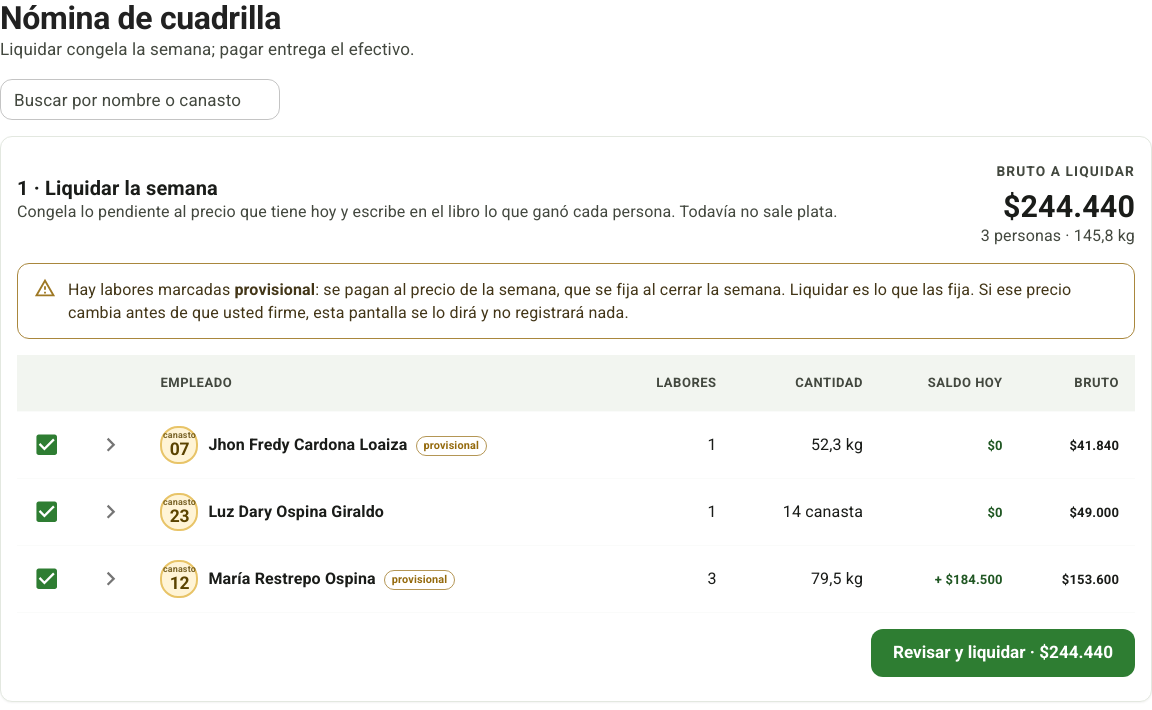
it: work that lands during the check › announces it, and the notice can be dismissed
The image size is (1152, 710).
Check: the heading "1 · Liquidar la semana" is shown, box [17, 176, 218, 200]
Click the button "Revisar y liquidar · $244.440" at (1003, 653), box [871, 629, 1135, 677]
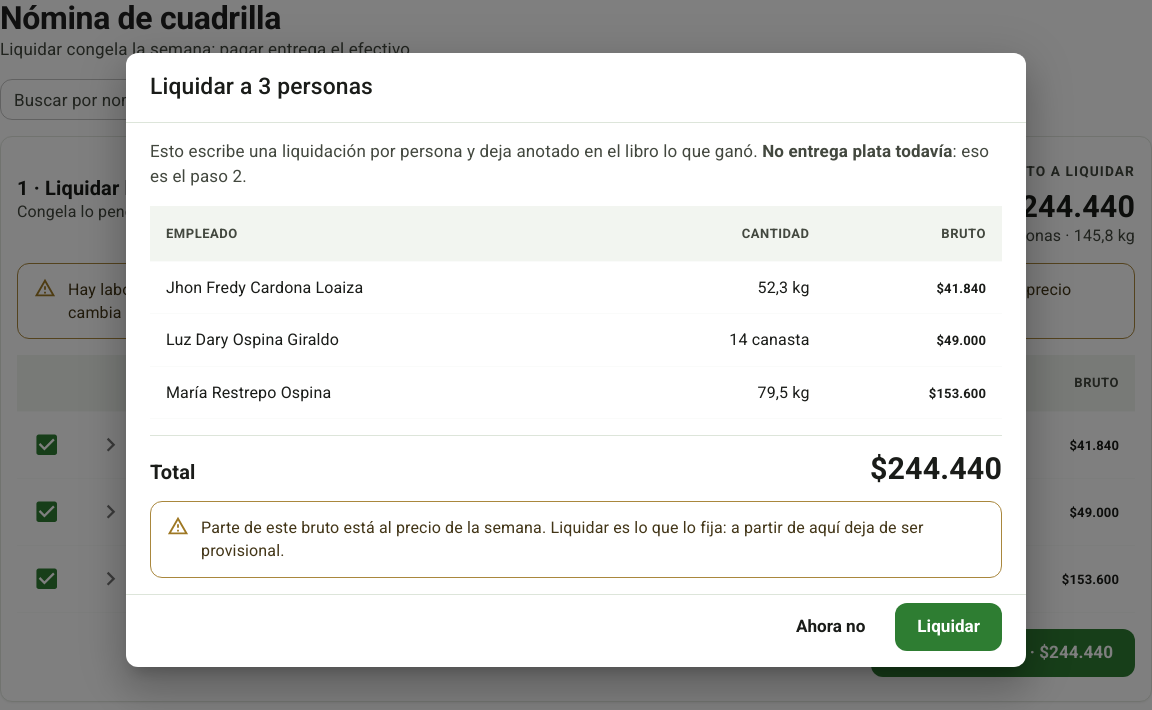
Check: the dialog is shown
Click the button "Liquidar" at (949, 627), box [895, 603, 1002, 651]
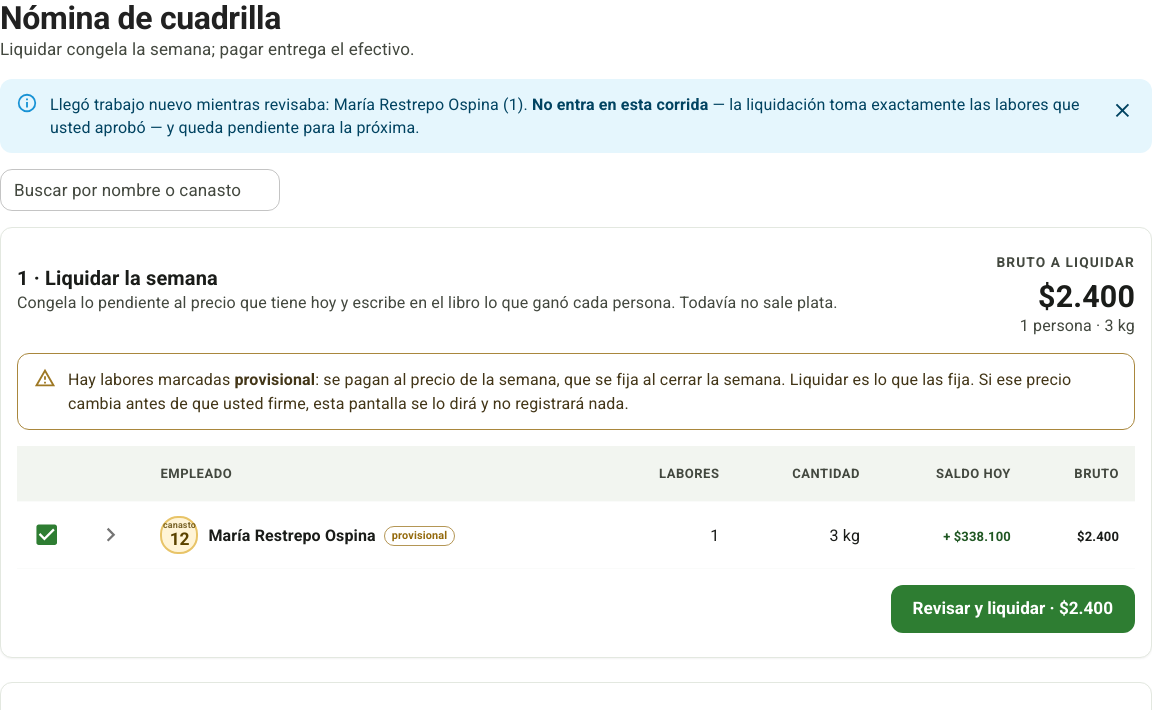
Check: the dialog is gone
Click the button named "Cerrar" at (1122, 111), box [1100, 89, 1144, 133]
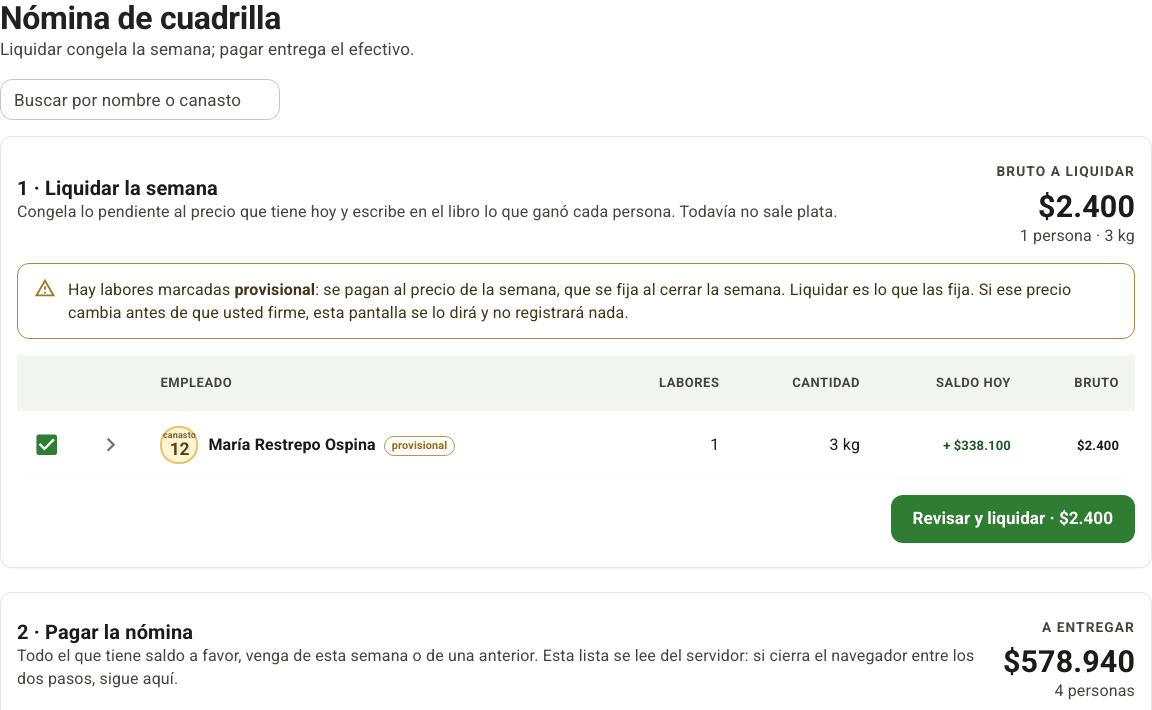
Check: the text "Llegó trabajo nuevo mientras revisaba" is gone
